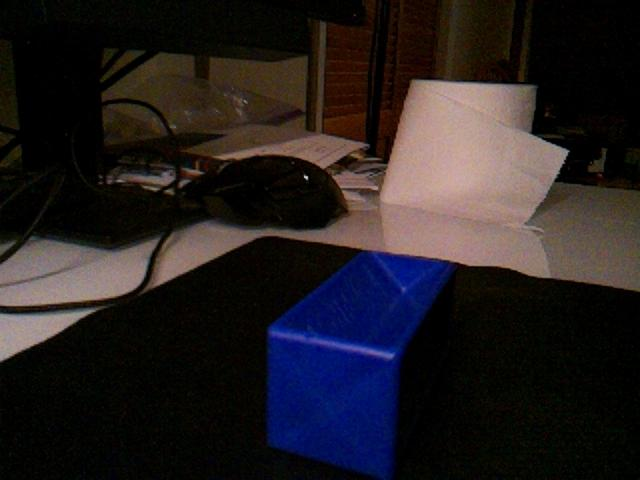blue: (264, 247, 458, 478)
